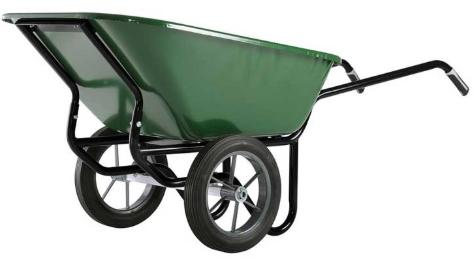ARROSOIR: (0, 3, 470, 256)
